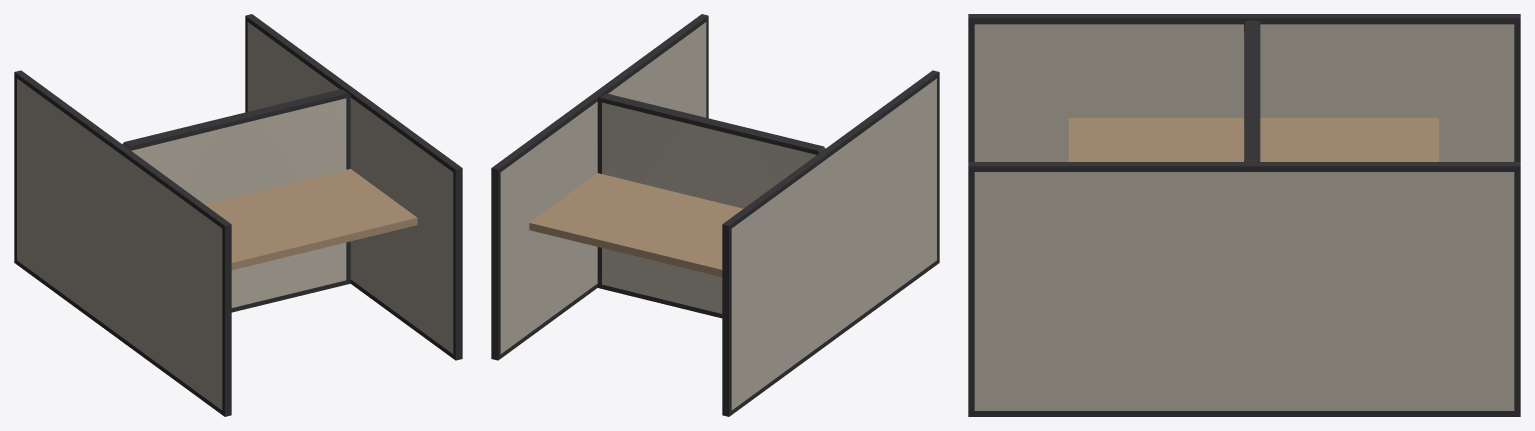
Rendered from 08_divider_full_H_desk.glb.
3 renders of one model, left to right at view 1: azimuth 30°, elevation 25°; view 2: azimuth 150°, elevation 25°; view 3: azimuth 270°, elevation 25°, orthographic. The views are drawn at different scales.
Visible parts, largest first — view 1: PartitionDestructible_Part_001.003; view 2: PartitionDestructible_Part_001.003; view 3: PartitionDestructible_Part_001.003.
Part boxes in pixels (x1=…): PartitionDestructible_Part_001.003: x1=14, y1=14, x2=462, y2=416; PartitionDestructible_Part_001.003: x1=491, y1=14, x2=939, y2=416; PartitionDestructible_Part_001.003: x1=968, y1=14, x2=1520, y2=416.
Size of the model in its own units: 1.96 by 1.5 by 3.
